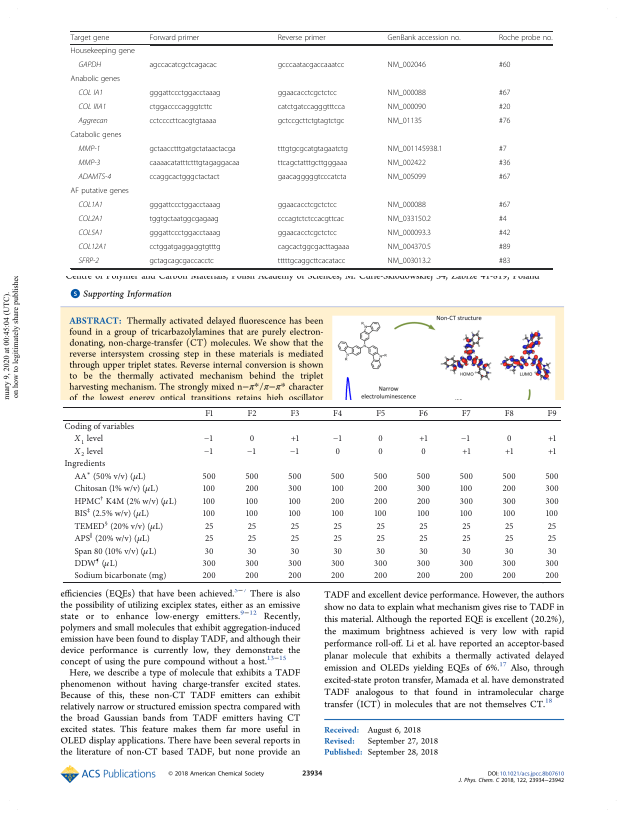borderless: (69, 29, 552, 268), (61, 405, 561, 582)
cell: (73, 492, 178, 509), (73, 518, 164, 534), (73, 481, 159, 496), (73, 543, 158, 558), (73, 530, 151, 546), (73, 505, 150, 521), (73, 468, 147, 484), (73, 571, 167, 582), (148, 158, 240, 168), (148, 144, 237, 154), (73, 555, 119, 571), (148, 88, 221, 98), (148, 200, 221, 210), (148, 228, 221, 238), (148, 242, 221, 252), (277, 242, 350, 252), (277, 144, 349, 154), (148, 172, 220, 182), (148, 214, 220, 224), (63, 422, 135, 432), (277, 158, 348, 168), (148, 60, 218, 70), (277, 172, 347, 182), (277, 102, 346, 112), (148, 116, 217, 126), (277, 256, 346, 266), (277, 60, 345, 70), (277, 116, 345, 126), (277, 214, 345, 224), (387, 33, 462, 42), (148, 256, 215, 266), (70, 46, 136, 56), (148, 102, 213, 112), (277, 88, 338, 98), (69, 186, 130, 196), (277, 200, 338, 210), (277, 228, 338, 238), (387, 144, 443, 154), (73, 443, 104, 460), (70, 130, 122, 140), (70, 74, 121, 84), (73, 431, 104, 447), (498, 33, 553, 42), (63, 459, 106, 470), (148, 33, 200, 42), (387, 214, 432, 224), (387, 228, 432, 238), (387, 242, 432, 252), (387, 256, 432, 266), (277, 33, 326, 42), (387, 60, 427, 70), (387, 88, 427, 98), (387, 102, 427, 112), (387, 158, 427, 168), (387, 172, 427, 182), (387, 200, 427, 210), (70, 33, 110, 42), (387, 116, 423, 126), (77, 172, 112, 181), (77, 116, 108, 126), (77, 102, 107, 112), (77, 88, 104, 98), (77, 242, 107, 251), (77, 60, 102, 70), (77, 200, 104, 209), (77, 214, 104, 223), (77, 228, 104, 237), (77, 144, 101, 153), (77, 158, 101, 167), (77, 256, 100, 265), (203, 443, 215, 459), (246, 443, 258, 459), (289, 443, 301, 459), (203, 431, 215, 446), (332, 431, 344, 446), (244, 484, 260, 495), (244, 571, 260, 582), (461, 431, 472, 446), (287, 484, 302, 495), (373, 484, 388, 495), (416, 484, 431, 495), (502, 484, 517, 495), (545, 484, 560, 495), (330, 496, 345, 507), (373, 496, 388, 507), (416, 496, 431, 507), (459, 496, 474, 507), (502, 496, 517, 507), (545, 496, 560, 507), (202, 571, 217, 582), (287, 571, 302, 582), (330, 571, 345, 582), (373, 571, 388, 582), (416, 571, 431, 582), (459, 571, 474, 582), (502, 571, 517, 582), (545, 571, 560, 582), (244, 472, 260, 482), (244, 559, 260, 569), (202, 484, 216, 495), (331, 484, 345, 495), (459, 484, 473, 495), (202, 496, 216, 507), (245, 496, 259, 507), (288, 496, 302, 507), (202, 509, 216, 520), (245, 509, 259, 520), (288, 509, 302, 520), (331, 509, 345, 520), (374, 509, 388, 520), (416, 509, 430, 520), (459, 509, 473, 520), (502, 509, 516, 520), (545, 509, 559, 520), (202, 472, 217, 482), (287, 472, 302, 482), (330, 472, 345, 482), (373, 472, 388, 482), (416, 472, 431, 482), (459, 472, 474, 482), (502, 472, 517, 482), (545, 472, 560, 482), (202, 559, 217, 569), (287, 559, 302, 569), (330, 559, 345, 569), (373, 559, 388, 569), (416, 559, 431, 569), (459, 559, 474, 569), (502, 559, 517, 569), (545, 559, 560, 569), (498, 60, 511, 70), (498, 88, 511, 98), (498, 102, 511, 112), (498, 116, 511, 126), (498, 158, 511, 168), (498, 172, 511, 182), (498, 200, 511, 210), (498, 228, 511, 238), (498, 242, 511, 252), (498, 256, 511, 266), (289, 409, 300, 420), (332, 409, 343, 420), (375, 409, 386, 420), (418, 409, 429, 420), (461, 409, 472, 420), (504, 409, 515, 420), (547, 409, 558, 420), (418, 434, 429, 445), (375, 521, 386, 532), (418, 521, 429, 532), (461, 521, 472, 532), (332, 546, 343, 557), (375, 546, 386, 557), (418, 546, 429, 557), (461, 546, 472, 557), (204, 409, 214, 420), (247, 409, 257, 420), (290, 434, 300, 445), (547, 434, 557, 445), (204, 521, 214, 532), (247, 521, 257, 532), (290, 521, 300, 532), (333, 521, 343, 532), (504, 521, 514, 532), (547, 521, 557, 532), (375, 534, 386, 544), (418, 534, 429, 544), (461, 534, 472, 544), (204, 546, 214, 557), (247, 546, 257, 557), (290, 546, 300, 557), (504, 546, 514, 557), (547, 546, 557, 557), (461, 447, 471, 457), (504, 447, 514, 457), (547, 447, 557, 457), (204, 534, 214, 544), (247, 534, 257, 544), (290, 534, 300, 544), (333, 534, 343, 544), (504, 534, 514, 544), (547, 534, 557, 544), (498, 144, 507, 154), (498, 214, 507, 224), (377, 434, 384, 445), (377, 447, 384, 457), (420, 447, 427, 457), (249, 434, 255, 445), (506, 434, 512, 445), (335, 447, 341, 457)
